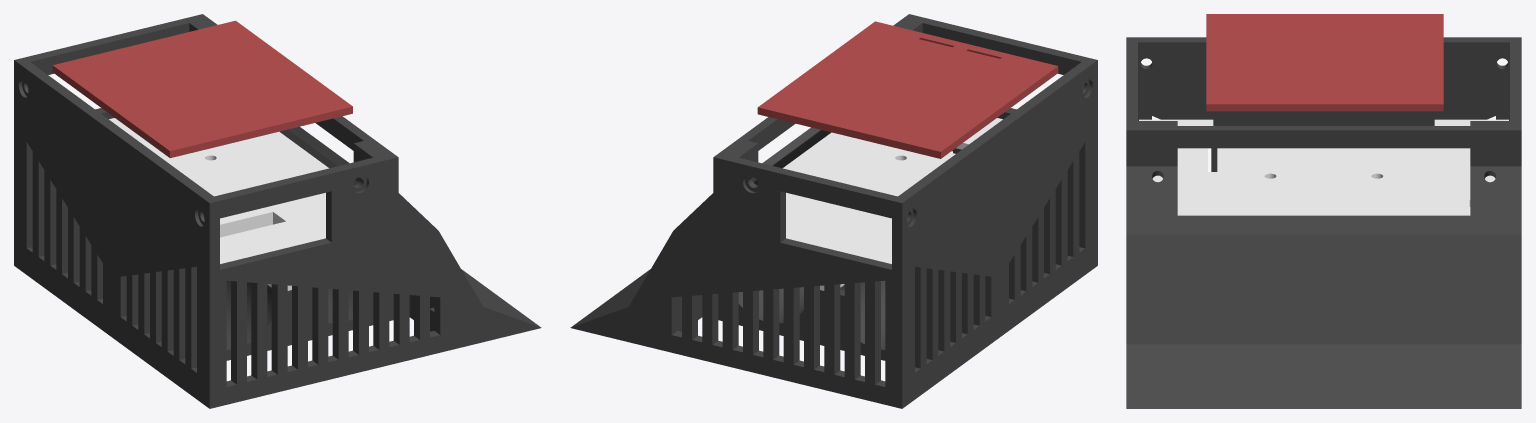
The model's file is paladin-casco.glb.
3 views of the same model, side by side, from view 1: azimuth 30°, elevation 25°; view 2: azimuth 150°, elevation 25°; view 3: azimuth 270°, elevation 25° (orthographic).
Parts seen in each view (by area): view 1: ID45 (×2), ID46, ID19; view 2: ID45 (×2), ID46, ID19; view 3: ID45 (×2), ID46, ID19.
Part boxes in pixels (x1=…): ID45 (×2): x1=14, y1=14, x2=541, y2=408; ID46: x1=52, y1=20, x2=352, y2=158; ID19: x1=109, y1=118, x2=328, y2=290; ID45 (×2): x1=570, y1=14, x2=1097, y2=408; ID46: x1=757, y1=21, x2=1058, y2=158; ID19: x1=783, y1=118, x2=1002, y2=290; ID45 (×2): x1=1126, y1=37, x2=1521, y2=408; ID46: x1=1206, y1=14, x2=1443, y2=111; ID19: x1=1139, y1=119, x2=1508, y2=215.
Size of the model in its own units: 0.098 by 0.0645 by 0.1.
